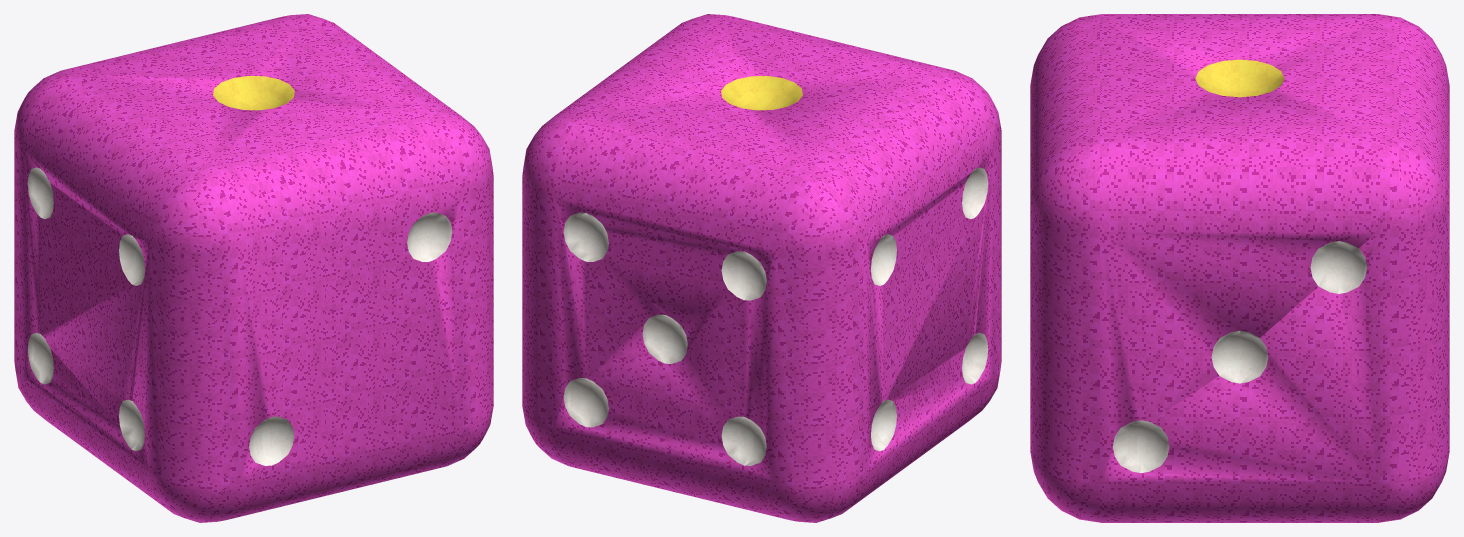
File: x_bgn_die.glb
3 views of the same model, side by side, from view 1: azimuth 30°, elevation 25°; view 2: azimuth 150°, elevation 25°; view 3: azimuth 270°, elevation 25° (orthographic). The views are drawn at different scales.
Parts seen in each view (by area): view 1: die; view 2: die; view 3: die.
Part boxes in pixels (box(x1,y1,x2,y2)): die: box(14, 14, 493, 522); die: box(522, 14, 1001, 522); die: box(1030, 14, 1449, 522).
Bounding box in the file's own units: 1.4 × 1.4 × 1.4.
Materials: 3 (3 with a texture image).
